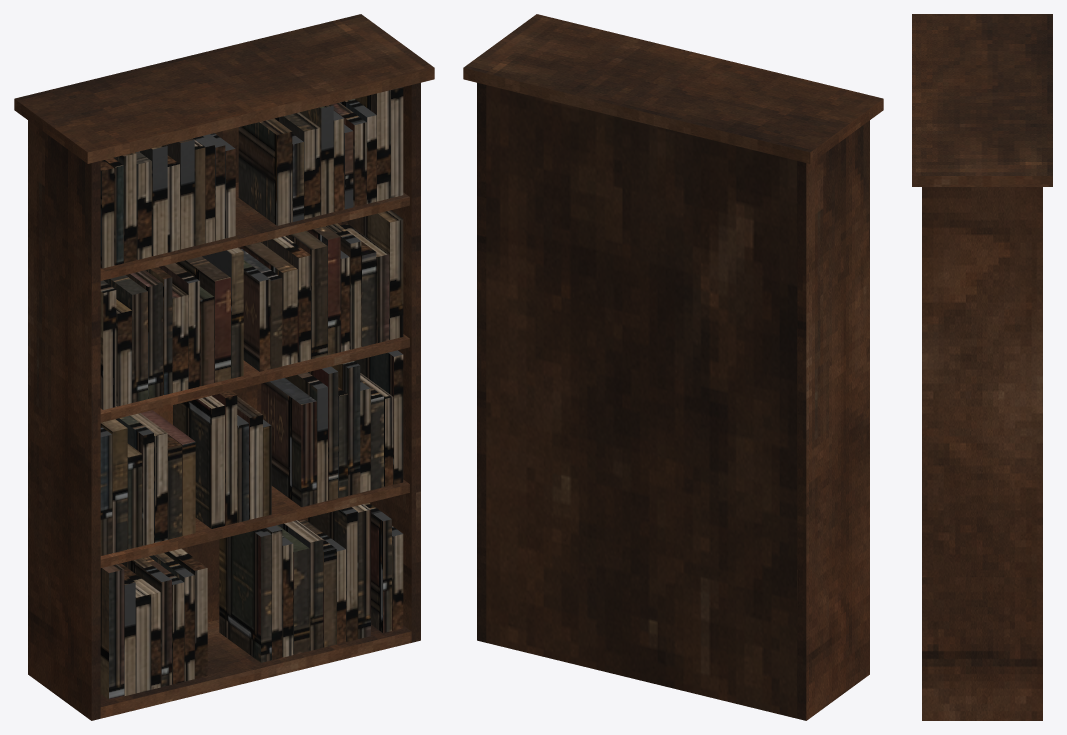
The model's file is bookshelf.glb.
The picture shows the model from 3 angles, left to right: view 1: azimuth 30°, elevation 25°; view 2: azimuth 150°, elevation 25°; view 3: azimuth 270°, elevation 25°; orthographic projection. The views are drawn at different scales.
Visible parts, largest first — view 1: env_bookshelf_big-col; view 2: env_bookshelf_big-col; view 3: env_bookshelf_big-col.
Boxes of the visible parts, <box> form: env_bookshelf_big-col: <box>14,14,434,720</box>; env_bookshelf_big-col: <box>463,14,883,720</box>; env_bookshelf_big-col: <box>912,14,1052,720</box>.
Bounding box in the file's own units: 1.52 × 2.41 × 0.5593.
2 materials, 2 textured.
